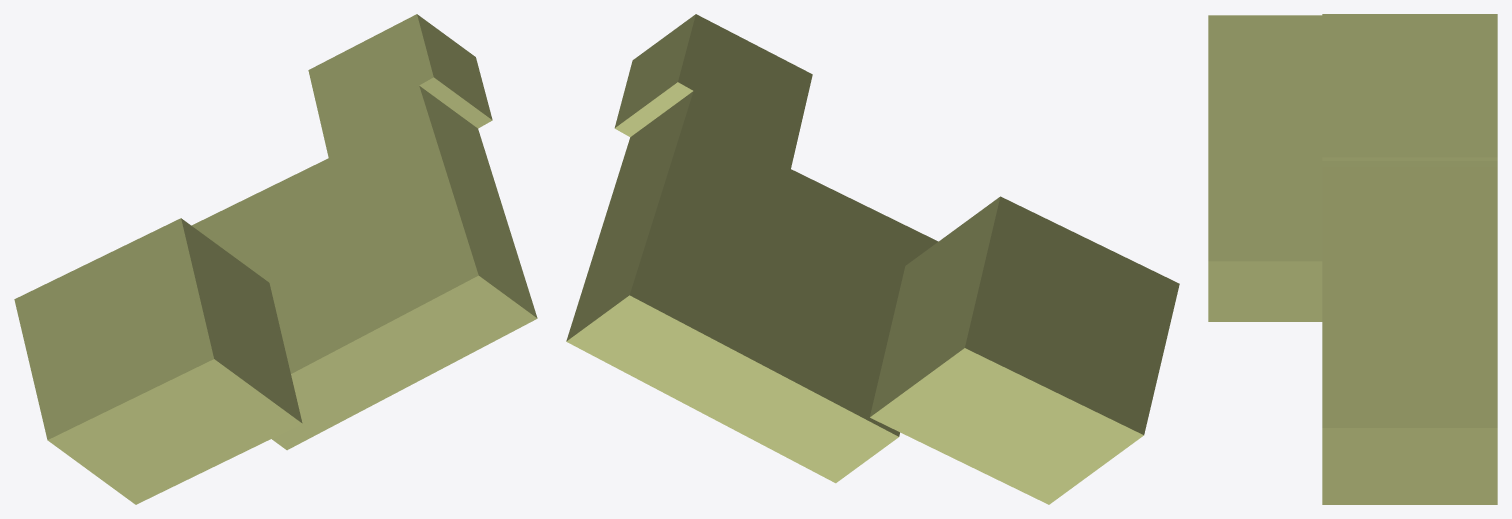
3 renders of one model, left to right at view 1: azimuth 30°, elevation 25°; view 2: azimuth 150°, elevation 25°; view 3: azimuth 270°, elevation 25°, orthographic. The views are drawn at different scales.
Visible parts, largest first — view 1: 0_1_0_2_0_3_1_1_1; view 2: 0_1_0_2_0_3_1_1_1; view 3: 0_1_0_2_0_3_1_1_1.
Part boxes in pixels (bbox=[...]): 0_1_0_2_0_3_1_1_1: bbox=[14, 14, 537, 504]; 0_1_0_2_0_3_1_1_1: bbox=[566, 14, 1179, 504]; 0_1_0_2_0_3_1_1_1: bbox=[1208, 14, 1497, 504].
Bounding box in the file's own units: 27.82 × 19.5 × 9.9.
